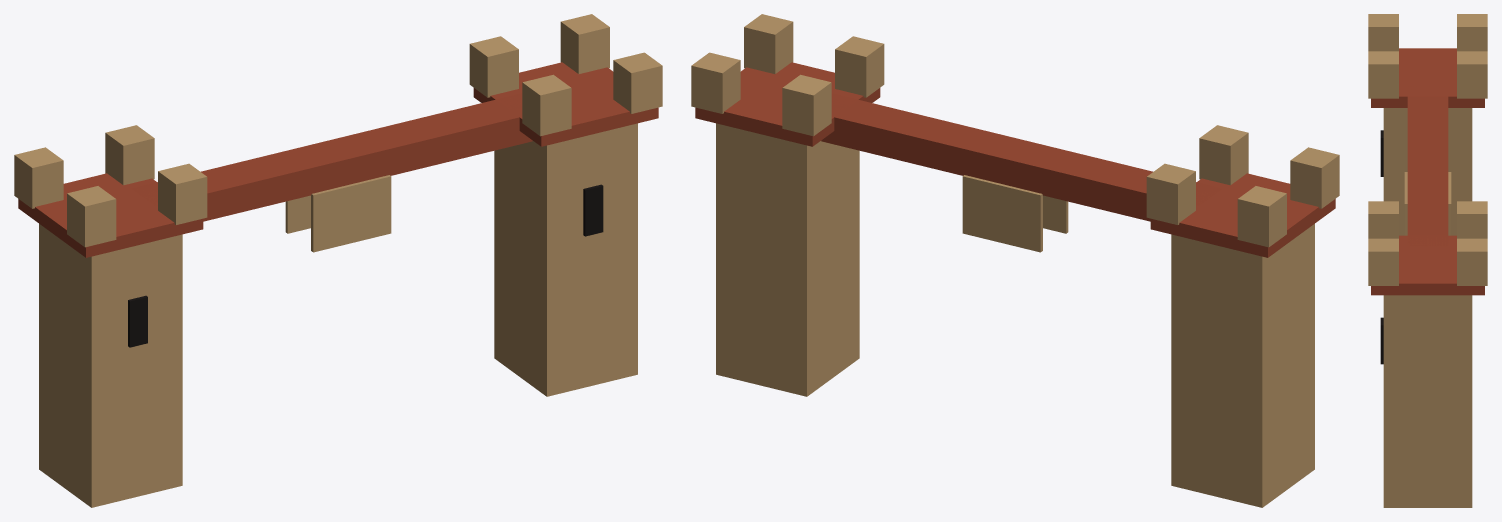
Rendered from cat_gate.glb.
The picture shows the model from 3 angles, left to right: view 1: azimuth 30°, elevation 25°; view 2: azimuth 150°, elevation 25°; view 3: azimuth 270°, elevation 25°; orthographic projection. The views are drawn at different scales.
Parts seen in each view (by area): view 1: cat_gate; view 2: cat_gate; view 3: cat_gate.
Part boxes in pixels (<box>): cat_gate: <box>14,14,662,507</box>; cat_gate: <box>691,14,1339,507</box>; cat_gate: <box>1368,14,1487,507</box>.
Bounding box in the file's own units: 4.44 × 2.29 × 0.94.
